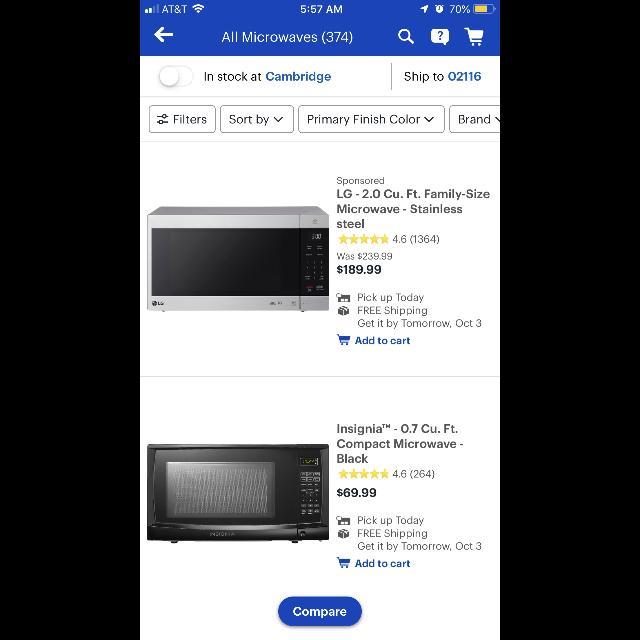icon: (338, 468, 389, 478), (338, 234, 389, 244), (464, 28, 484, 46), (154, 27, 174, 43), (432, 28, 448, 46), (398, 30, 414, 44), (337, 334, 351, 346), (337, 558, 351, 568), (274, 118, 284, 122), (424, 118, 434, 122)
image: (147, 206, 329, 312), (147, 444, 329, 544), (336, 516, 350, 526), (336, 294, 350, 302), (338, 529, 348, 539), (338, 306, 348, 316)
switch: (158, 65, 194, 87)
text: (336, 190, 489, 228), (337, 423, 463, 462), (358, 293, 482, 329), (358, 516, 482, 552), (222, 32, 352, 44), (205, 72, 331, 84), (404, 72, 482, 84), (393, 235, 439, 245), (337, 264, 381, 274), (338, 252, 392, 260), (356, 336, 410, 344), (356, 559, 410, 567), (393, 470, 435, 480), (338, 488, 377, 498), (338, 178, 384, 186)
textbutton: (299, 106, 445, 134), (278, 596, 362, 626), (220, 105, 294, 133), (148, 105, 216, 133), (450, 106, 500, 134)
uppertaskbar: (140, 0, 500, 14)
